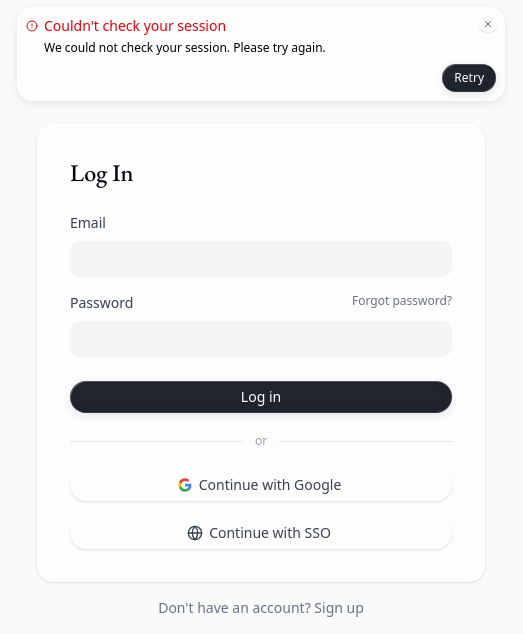
Test: shows the session warning as a popup that can be dismissed
The image size is (523, 634).
expect the message shows "Couldn't check your session": met, box [44,16,226,35]
expect the message shows "We could not check your session. Please try again.": met, box [44,39,326,56]
What coordinates should you click on to do the following:
click the button named "Dismiss warning"
I would click on:
 (488, 24)
Its box is [480,16,496,32].
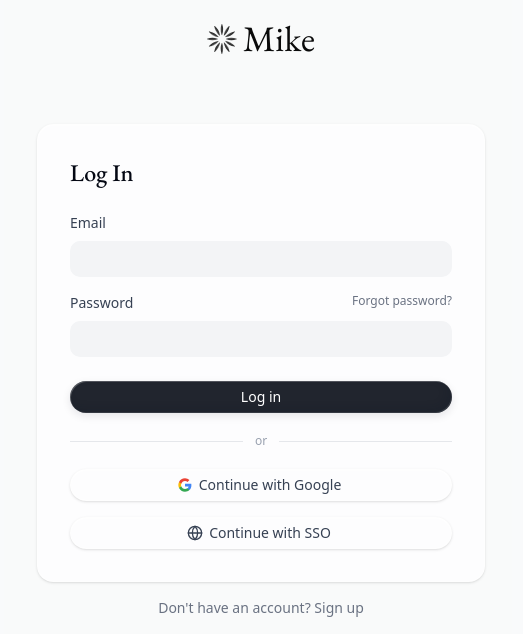
expect the message "Couldn't check your session We could not check your session. Please try again." is gone: met
